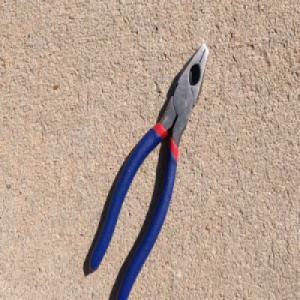Pliers: (87, 39, 208, 299)
